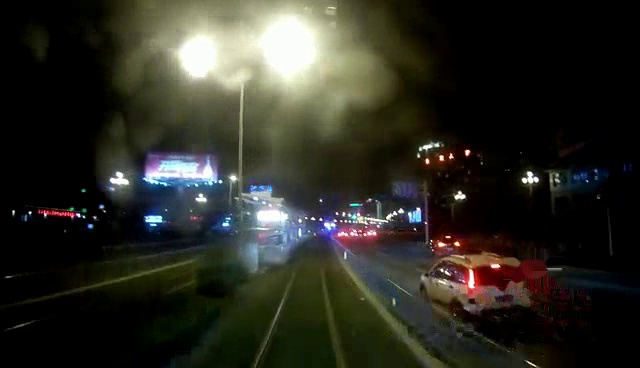car: (418, 252, 531, 313), (430, 233, 463, 255)
